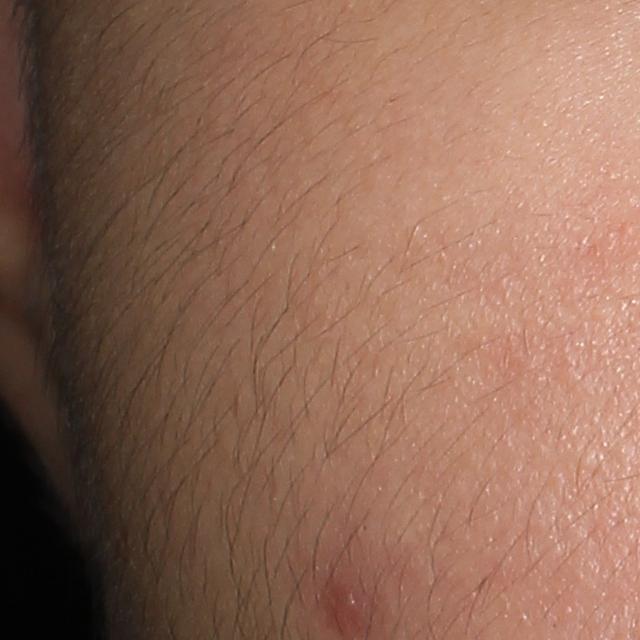papule: (317, 575, 388, 636)
